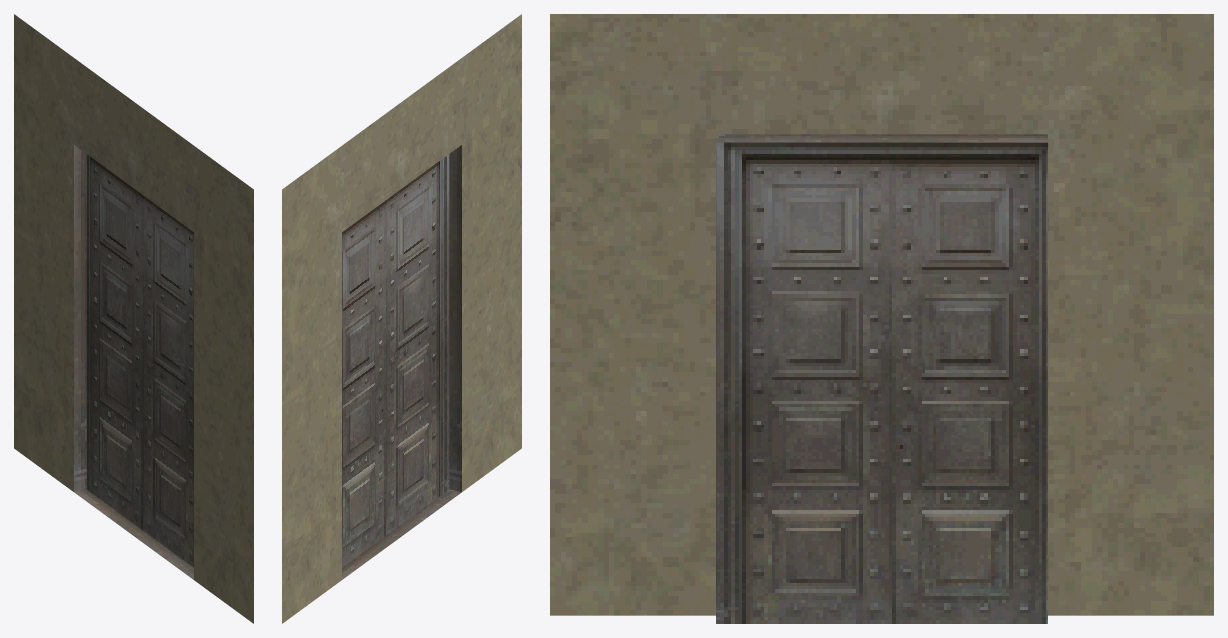
Rendered from stuco_wall_metal_door_indent.glb.
The picture shows the model from 3 angles, left to right: view 1: azimuth 30°, elevation 25°; view 2: azimuth 150°, elevation 25°; view 3: azimuth 270°, elevation 25°; orthographic projection. The views are drawn at different scales.
Visible parts, largest first — view 1: stuco_wall_metal_door_indent; view 2: stuco_wall_metal_door_indent; view 3: stuco_wall_metal_door_indent.
Boxes of the visible parts, x1,y1,x2,y2 form: stuco_wall_metal_door_indent: (14,14,253,623); stuco_wall_metal_door_indent: (282,14,521,623); stuco_wall_metal_door_indent: (550,14,1213,623).
Size of the model in its own units: 0.0907 by 3 by 3.
Materials: 1 (1 with a texture image).
